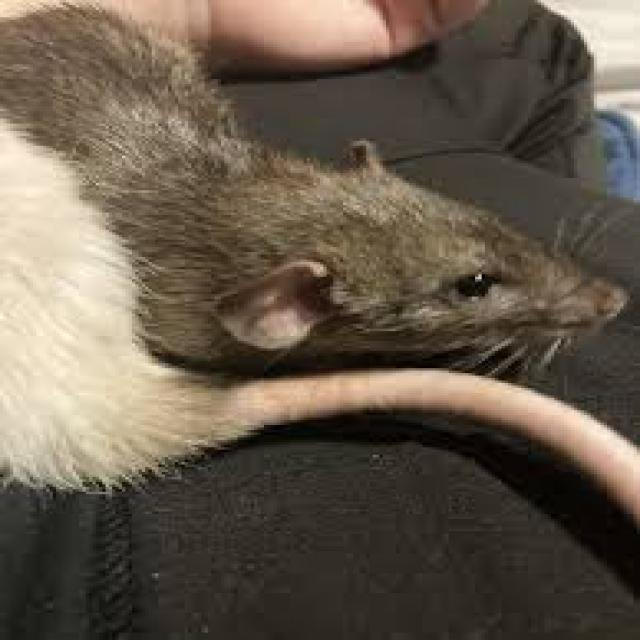Rat: (1, 11, 624, 495)
